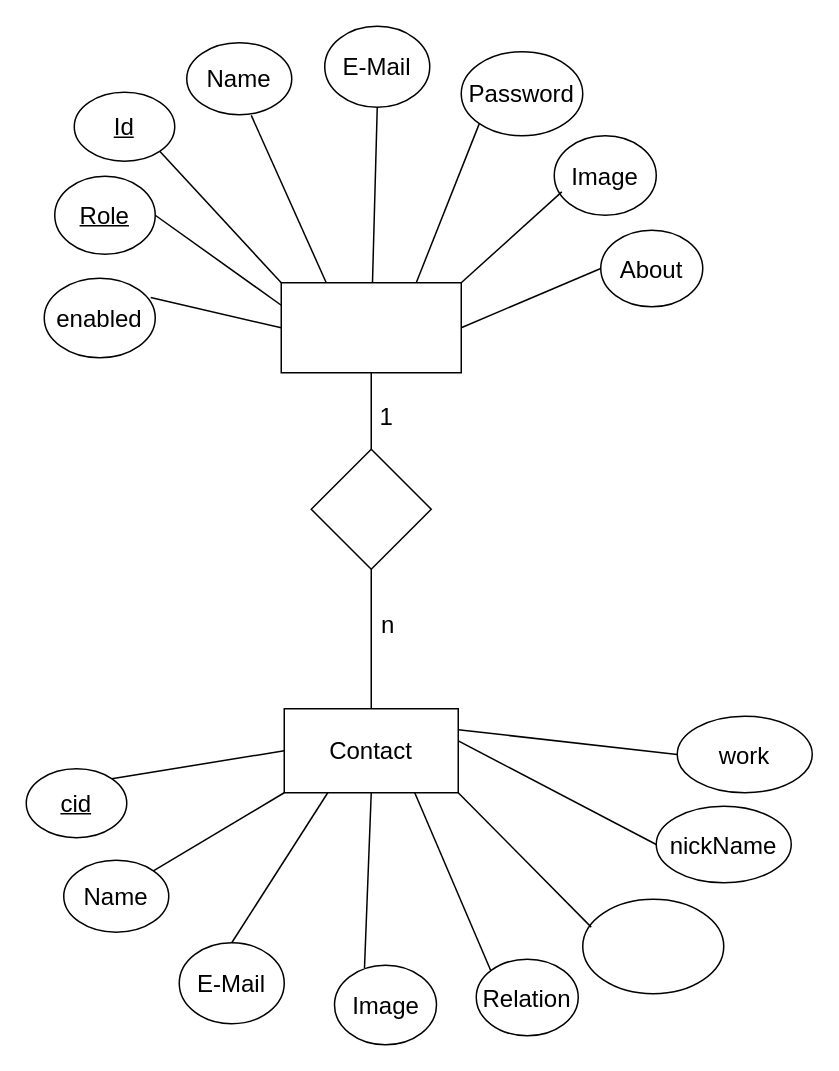
This 839x1071 diagram has some shape labels left out. Here are the shapes that lost their labels. From the top down, the centre of each, then its label:
At [370,327]: "User".
At [370,508]: "has".
At [652,946]: "Contact Number".
